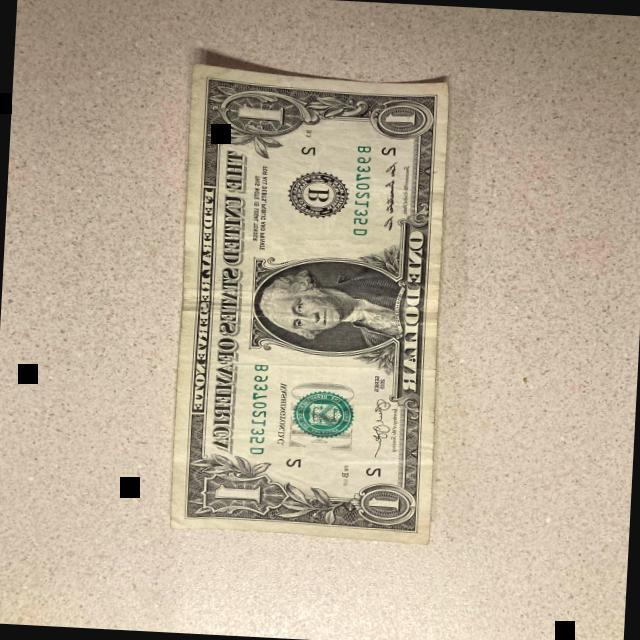one: (166, 62, 454, 548)
